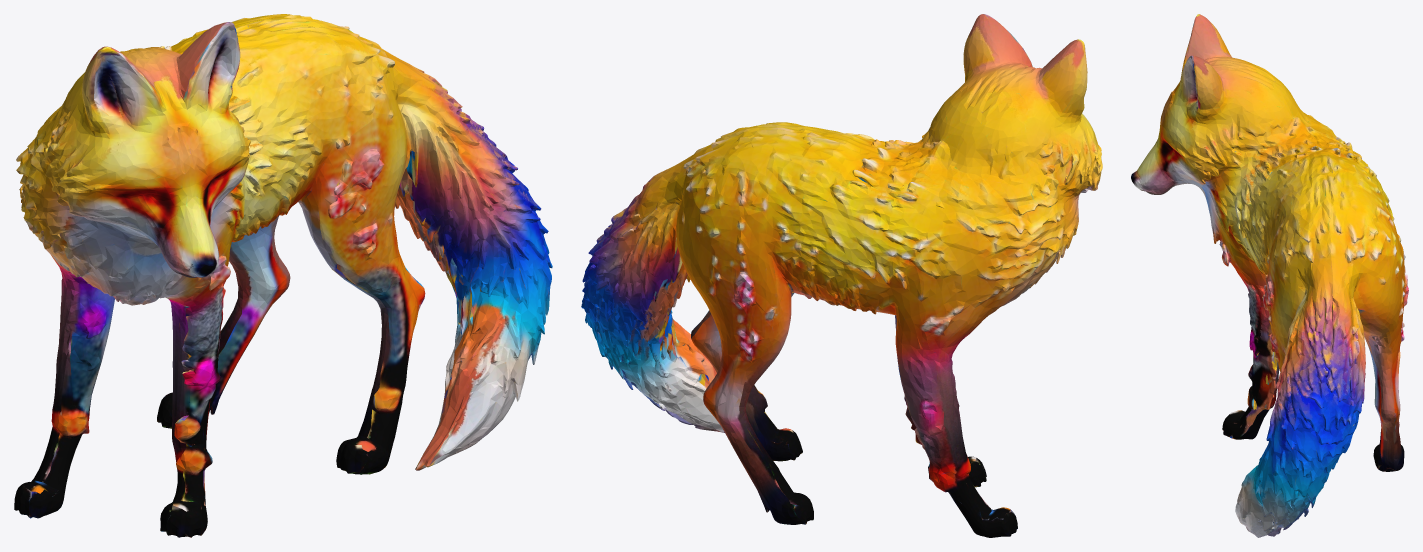
The model's file is agenticvibes-paint.glb.
3 renders of one model, left to right at view 1: azimuth 30°, elevation 25°; view 2: azimuth 150°, elevation 25°; view 3: azimuth 270°, elevation 25°, orthographic. The views are drawn at different scales.
Parts seen in each view (by area): view 1: agenticvibes-paint.obj; view 2: agenticvibes-paint.obj; view 3: agenticvibes-paint.obj.
Boxes of the visible parts, <box> form: agenticvibes-paint.obj: <box>14,14,552,537</box>; agenticvibes-paint.obj: <box>581,14,1102,537</box>; agenticvibes-paint.obj: <box>1131,14,1408,537</box>.
Size of the model in its own units: 1.99 by 1.85 by 1.21.
Materials: 1 (1 with a texture image).
